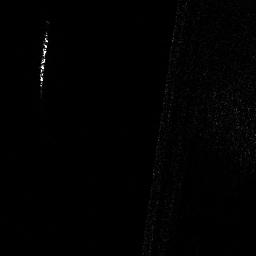ship: (39, 32, 49, 85)
